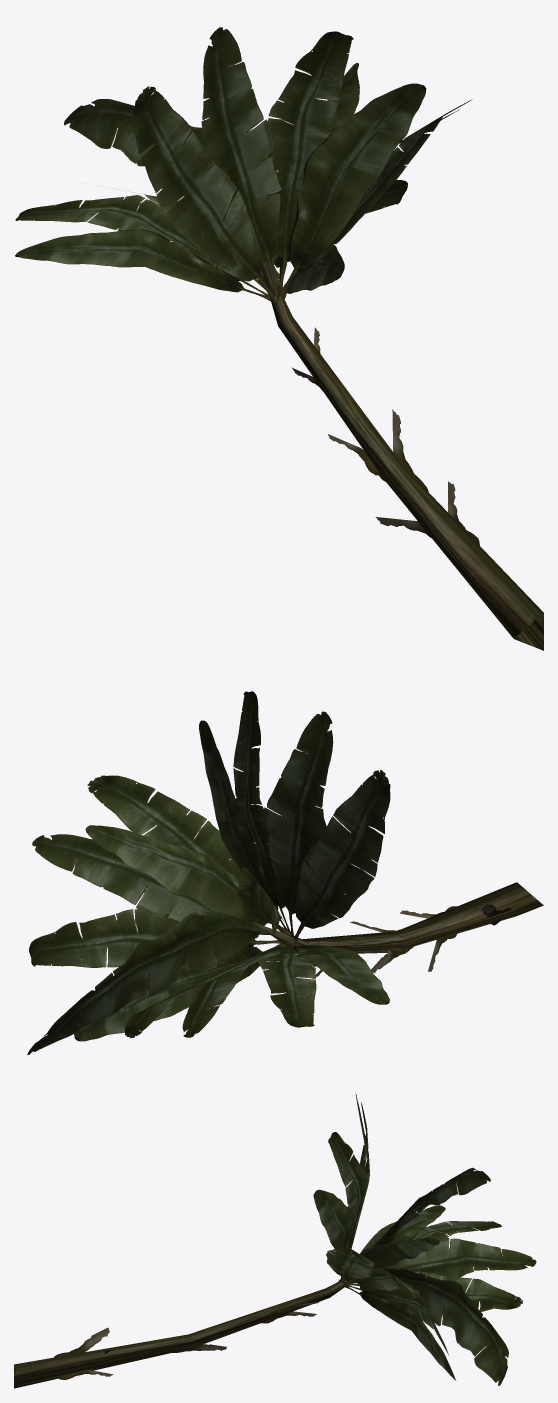
Rendered from MEP_Palm_04.fbx.
3 views of the same model, one above another, from view 1: azimuth 30°, elevation 25°; view 2: azimuth 150°, elevation 25°; view 3: azimuth 270°, elevation 25° (orthographic). The views are drawn at different scales.
Parts seen in each view (by area): view 1: MEP_Palm_04; view 2: MEP_Palm_04; view 3: MEP_Palm_04.
Boxes of the visible parts, <box> form: MEP_Palm_04: <box>15,27,543,650</box>; MEP_Palm_04: <box>27,691,543,1054</box>; MEP_Palm_04: <box>14,1093,536,1388</box>.
Size of the model in its own units: 3.89 by 3.86 by 6.46.
